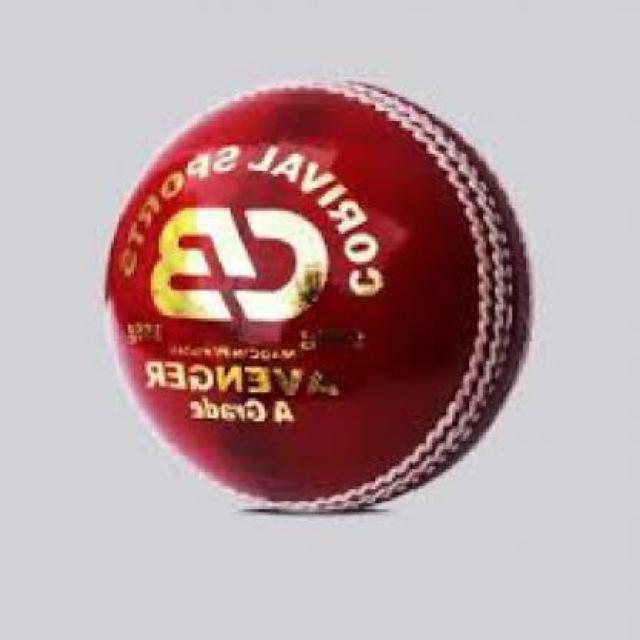ball: (45, 63, 551, 517)
